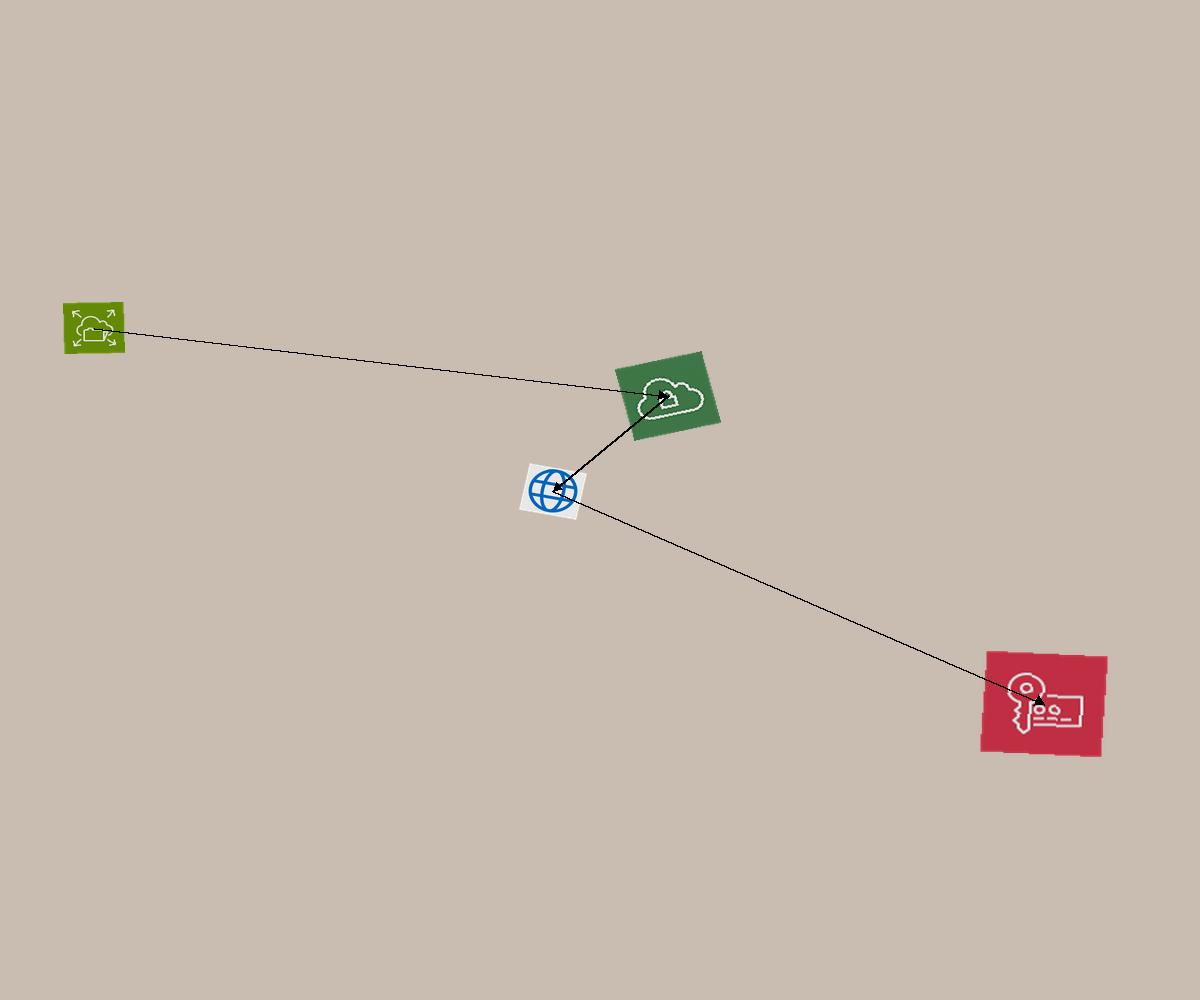AWS-EFS: (63, 302, 125, 354)
AWS-Key-Management-Service: (979, 650, 1109, 758)
AWS-Private_vpc: (614, 351, 722, 441)
Azure_http: (519, 463, 587, 520)
